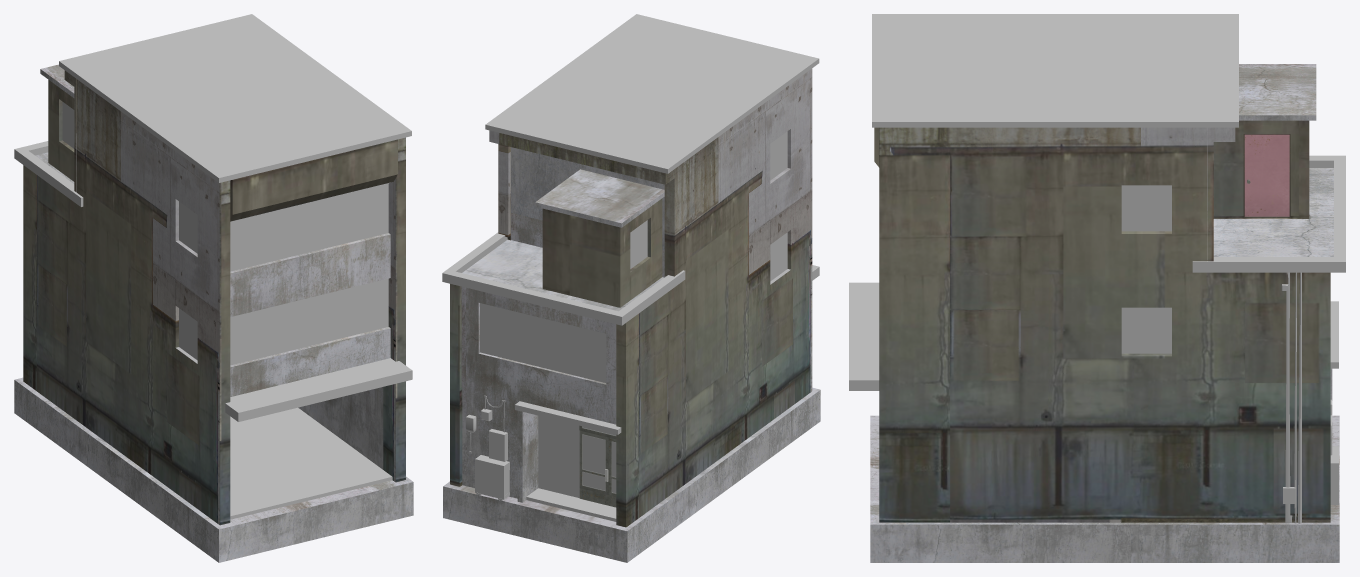
Rendered from mallbil_s_a_in.fbx.
3 renders of one model, left to right at view 1: azimuth 30°, elevation 25°; view 2: azimuth 150°, elevation 25°; view 3: azimuth 270°, elevation 25°, orthographic. The views are drawn at different scales.
Parts seen in each view (by area): view 1: mallbil_s_a_in; view 2: mallbil_s_a_in; view 3: mallbil_s_a_in.
Boxes of the visible parts, x1=… form: mallbil_s_a_in: x1=14, y1=14, x2=413, y2=562; mallbil_s_a_in: x1=442, y1=14, x2=820, y2=562; mallbil_s_a_in: x1=849, y1=14, x2=1345, y2=562.
Size of the model in its own units: 611 by 1152 by 1177.
